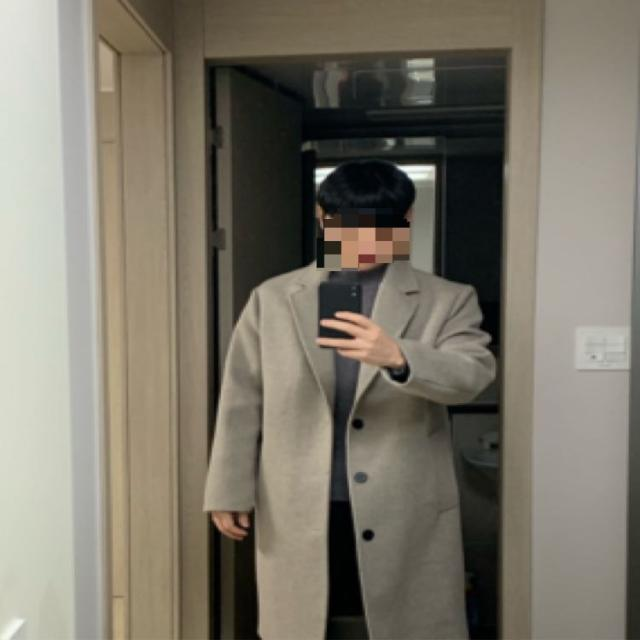coat: (202, 257, 498, 640)
